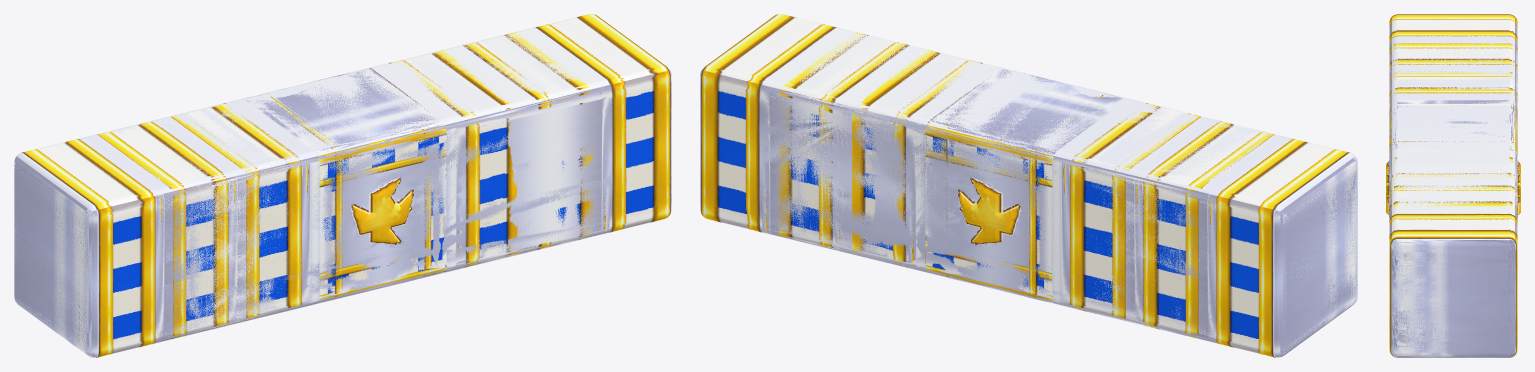
File: canSquare-artwork-78.glb
3 renders of one model, left to right at view 1: azimuth 30°, elevation 25°; view 2: azimuth 150°, elevation 25°; view 3: azimuth 270°, elevation 25°, orthographic. The views are drawn at different scales.
Parts seen in each view (by area): view 1: SILVER_CONTAINER_XLong_Surface, SILVER_CONTAINER_Vertical_XLong_Surface, SILVER_CONTAINER_Long_Surface, SILVER_CONTAINER_Base_Surface, SILVER_CONTAINER_Cube_Surface, SILVER_CONTAINER_Vertical_Base_Surface, SILVER_CONTAINER_Vertical_Long_Surface, SILVER_CONTAINER_Vertical_Cube_Surface; view 2: SILVER_CONTAINER_XLong_Surface, SILVER_CONTAINER_Vertical_XLong_Surface, SILVER_CONTAINER_Long_Surface, SILVER_CONTAINER_Base_Surface, SILVER_CONTAINER_Cube_Surface, SILVER_CONTAINER_Vertical_Long_Surface, SILVER_CONTAINER_Vertical_Base_Surface, SILVER_CONTAINER_Vertical_Cube_Surface; view 3: SILVER_CONTAINER_XLong_Surface, SILVER_CONTAINER_Vertical_XLong_Surface, SILVER_CONTAINER_Long_Surface, SILVER_CONTAINER_Base_Surface, SILVER_CONTAINER_Vertical_Long_Surface, SILVER_CONTAINER_Vertical_Base_Surface, SILVER_CONTAINER_Vertical_Cube_Surface, SILVER_CONTAINER_Cube_Surface.
Boxes of the visible parts, x1=… form: SILVER_CONTAINER_XLong_Surface: x1=14, y1=14, x2=671, y2=357; SILVER_CONTAINER_Vertical_XLong_Surface: x1=14, y1=14, x2=671, y2=357; SILVER_CONTAINER_Long_Surface: x1=96, y1=32, x2=592, y2=337; SILVER_CONTAINER_Base_Surface: x1=171, y1=50, x2=519, y2=318; SILVER_CONTAINER_Cube_Surface: x1=246, y1=68, x2=446, y2=303; SILVER_CONTAINER_Vertical_Base_Surface: x1=172, y1=53, x2=519, y2=320; SILVER_CONTAINER_Vertical_Long_Surface: x1=112, y1=43, x2=591, y2=338; SILVER_CONTAINER_Vertical_Cube_Surface: x1=252, y1=68, x2=446, y2=300; SILVER_CONTAINER_XLong_Surface: x1=700, y1=14, x2=1357, y2=357; SILVER_CONTAINER_Vertical_XLong_Surface: x1=700, y1=15, x2=1357, y2=357; SILVER_CONTAINER_Long_Surface: x1=779, y1=32, x2=1274, y2=337; SILVER_CONTAINER_Base_Surface: x1=852, y1=50, x2=1200, y2=318; SILVER_CONTAINER_Cube_Surface: x1=925, y1=68, x2=1125, y2=303; SILVER_CONTAINER_Vertical_Long_Surface: x1=779, y1=42, x2=1260, y2=337; SILVER_CONTAINER_Vertical_Base_Surface: x1=852, y1=51, x2=1199, y2=318; SILVER_CONTAINER_Vertical_Cube_Surface: x1=925, y1=75, x2=1105, y2=303; SILVER_CONTAINER_XLong_Surface: x1=1386, y1=14, x2=1520, y2=357; SILVER_CONTAINER_Vertical_XLong_Surface: x1=1386, y1=14, x2=1520, y2=357; SILVER_CONTAINER_Long_Surface: x1=1386, y1=43, x2=1520, y2=213; SILVER_CONTAINER_Base_Surface: x1=1386, y1=71, x2=1520, y2=204; SILVER_CONTAINER_Vertical_Long_Surface: x1=1386, y1=44, x2=1520, y2=217; SILVER_CONTAINER_Vertical_Base_Surface: x1=1386, y1=73, x2=1520, y2=214; SILVER_CONTAINER_Vertical_Cube_Surface: x1=1386, y1=102, x2=1520, y2=166; SILVER_CONTAINER_Cube_Surface: x1=1386, y1=100, x2=1520, y2=195.
Bounding box in the file's own units: 4 × 1 × 1.
1 material, 1 textured.
